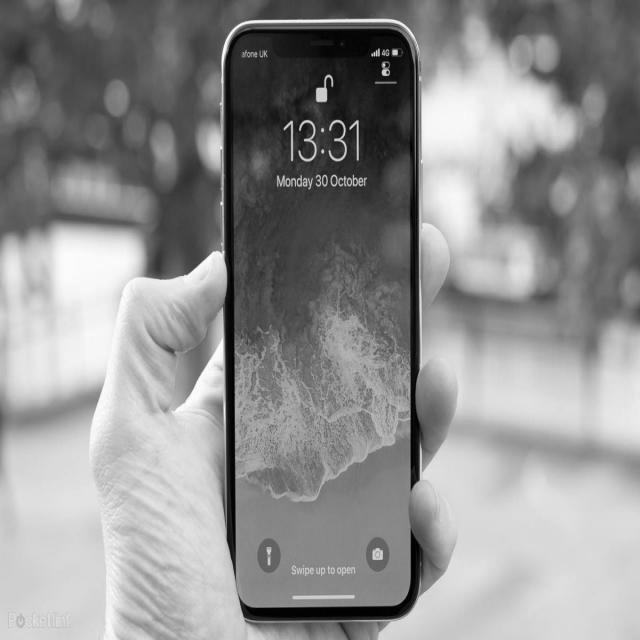fake: (220, 18, 428, 627)
